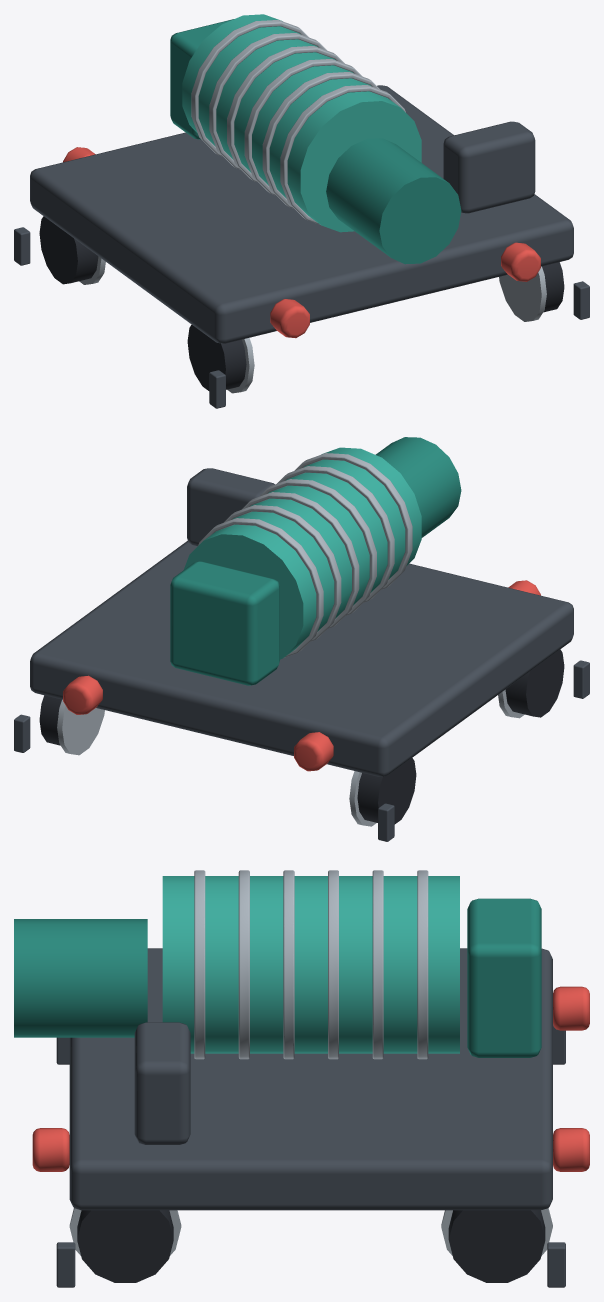
File: ponte_carro.glb
3 renders of one model, top to bottom at view 1: azimuth 30°, elevation 25°; view 2: azimuth 150°, elevation 25°; view 3: azimuth 270°, elevation 25°, orthographic. The views are drawn at different scales.
Parts seen in each view (by area): view 1: quadro, tambor, motor_elevacao, espira_cabo (×6), caixa_eletrica, roda (×3), para_choque (×2), flange_roda (×2), redutor, limpa_trilho (×3); view 2: quadro, tambor, redutor, espira_cabo (×6), roda (×3), motor_elevacao, caixa_eletrica, para_choque (×2), flange_roda (×2), limpa_trilho (×3); view 3: quadro, tambor, motor_elevacao, espira_cabo (×6), roda (×2), redutor, caixa_eletrica, para_choque (×3), limpa_trilho (×2), flange_roda (×2).
Boxes of the visible parts, box(x1,y1,x2,y2) form: quadro: box(30, 85, 573, 343); tambor: box(182, 14, 421, 232); motor_elevacao: box(326, 138, 461, 264); espira_cabo (×6): box(191, 20, 405, 224); caixa_eletrica: box(443, 121, 535, 213); roda (×3): box(39, 216, 564, 390); para_choque (×2): box(270, 242, 540, 338); flange_roda (×2): box(227, 266, 546, 393); redutor: box(170, 19, 233, 139); limpa_trilho (×3): box(14, 227, 589, 408); quadro: box(30, 540, 573, 776); tambor: box(184, 447, 421, 659); redutor: box(170, 561, 279, 685); espira_cabo (×6): box(198, 453, 412, 657); roda (×3): box(39, 649, 564, 824); motor_elevacao: box(375, 437, 461, 537); caixa_eletrica: box(187, 468, 274, 545); para_choque (×2): box(63, 675, 333, 771); flange_roda (×2): box(57, 699, 376, 826); limpa_trilho (×3): box(14, 660, 589, 841); quadro: box(69, 948, 552, 1210); tambor: box(162, 876, 459, 1053); motor_elevacao: box(14, 919, 147, 1037); espira_cabo (×6): box(194, 870, 428, 1059); roda (×2): box(77, 1210, 545, 1282); redutor: box(467, 898, 541, 1057); caixa_eletrica: box(134, 1022, 190, 1144); para_choque (×3): box(32, 986, 589, 1171); limpa_trilho (×2): box(56, 1242, 565, 1287); flange_roda (×2): box(69, 1208, 552, 1255).
Bounding box in the file's own units: 1.46 × 0.9112 × 1.55.
